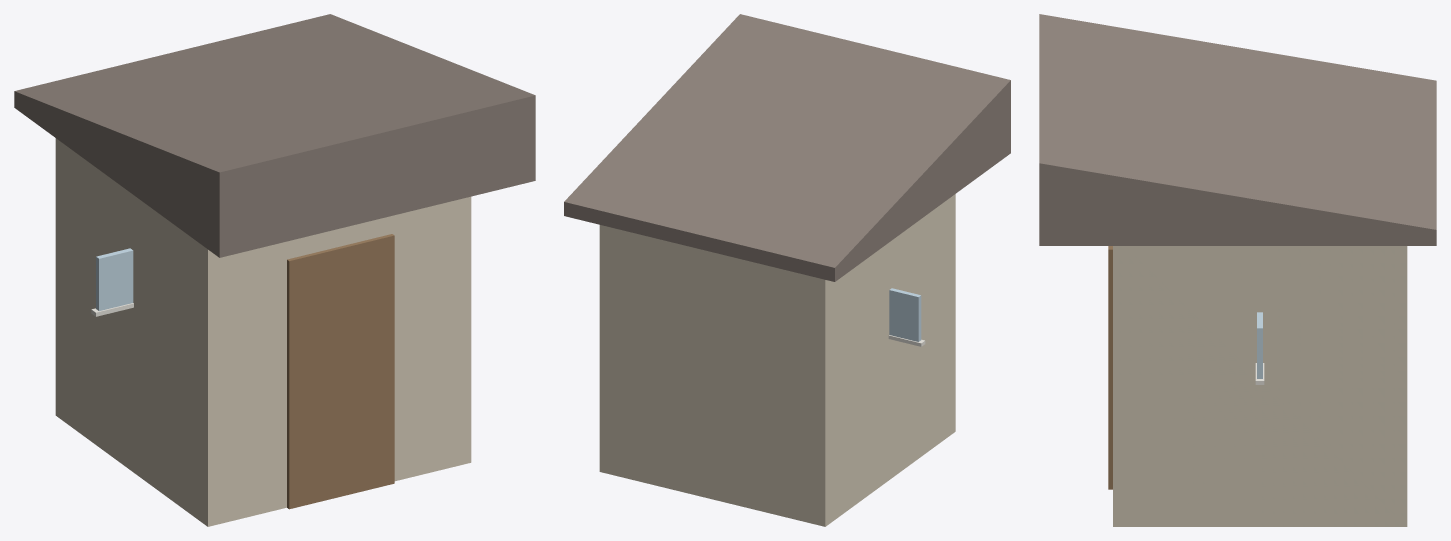
The model's file is starter_hut.glb.
3 renders of one model, left to right at view 1: azimuth 30°, elevation 25°; view 2: azimuth 150°, elevation 25°; view 3: azimuth 270°, elevation 25°, orthographic. The views are drawn at different scales.
Visible parts, largest first — view 1: StarterHut; view 2: StarterHut; view 3: StarterHut.
Boxes of the visible parts, <box> form: StarterHut: <box>14,14,535,526</box>; StarterHut: <box>564,14,1010,526</box>; StarterHut: <box>1039,14,1436,526</box>.
Size of the model in its own units: 2.58 by 2.82 by 2.7.
